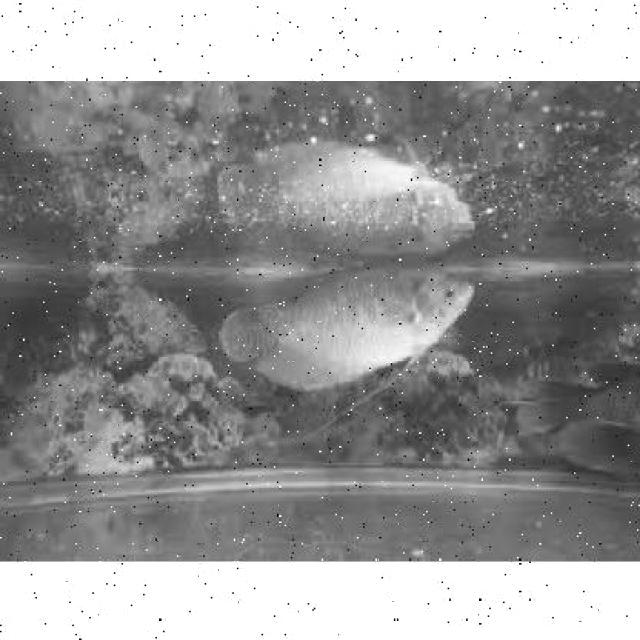gurame: (227, 258, 476, 388)
